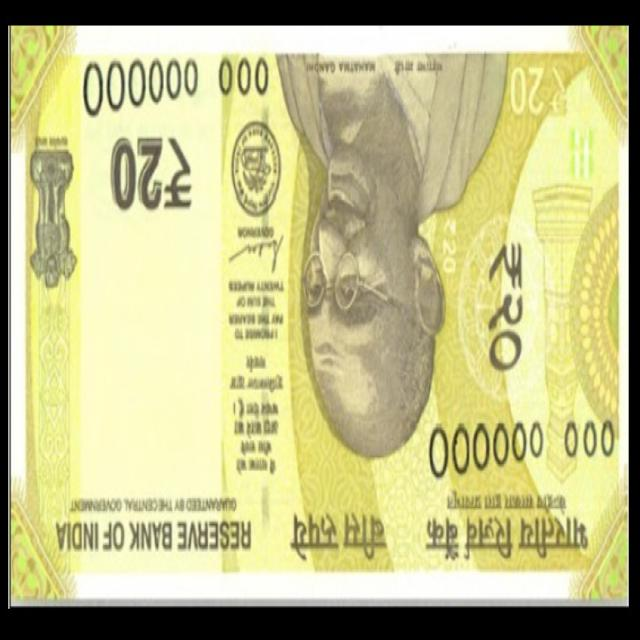20IndianRupees: (13, 24, 627, 601), (220, 25, 628, 616), (12, 25, 399, 599)
